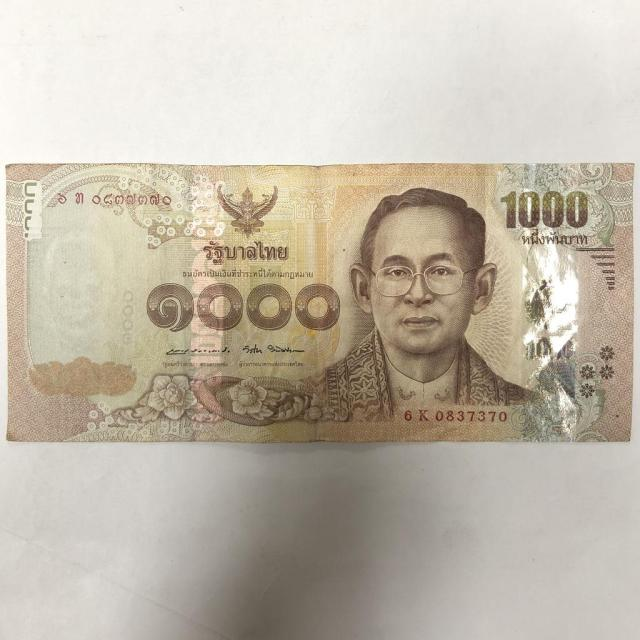THAI1000: (7, 163, 633, 442)
